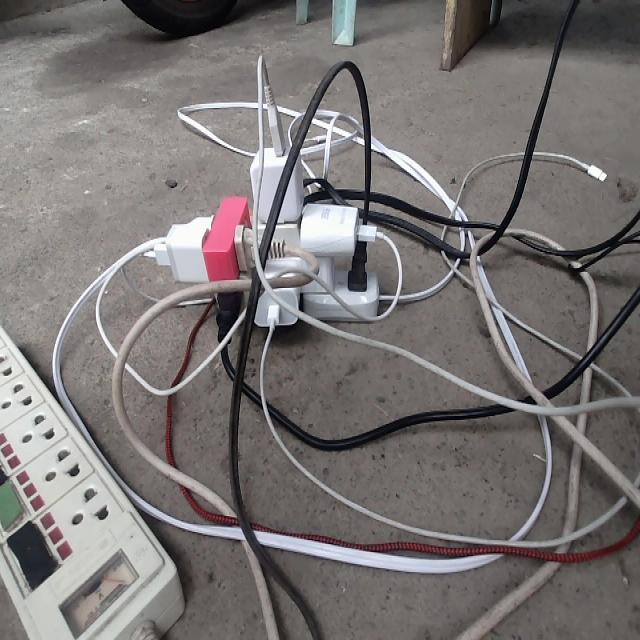-: (164, 131, 384, 328)
